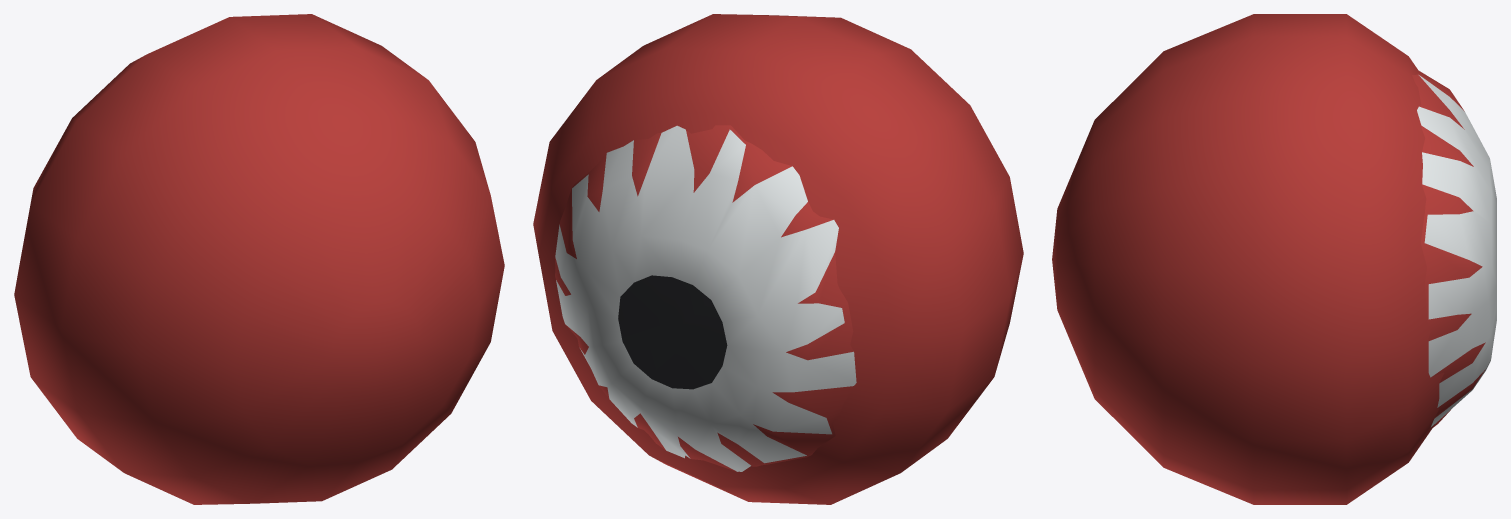
3 views of the same model, side by side, from view 1: azimuth 30°, elevation 25°; view 2: azimuth 150°, elevation 25°; view 3: azimuth 270°, elevation 25° (orthographic).
Visible parts, largest first — view 1: Sphere.001; view 2: Sphere.001, Sphere; view 3: Sphere.001, Sphere.
Part boxes in pixels (left/top/right/bottom): Sphere.001: left=14, top=14, right=504, bottom=504; Sphere.001: left=533, top=14, right=1023, bottom=504; Sphere: left=555, top=125, right=856, bottom=471; Sphere.001: left=1052, top=14, right=1444, bottom=504; Sphere: left=1412, top=71, right=1496, bottom=427.
Bounding box in the file's own units: 0.7868 × 0.7868 × 0.7122.
Materials: 1 (1 with a texture image).
